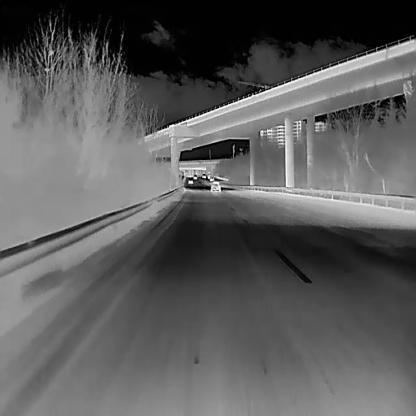car: (210, 180, 221, 192), (187, 177, 193, 183), (192, 174, 197, 179), (201, 173, 206, 178)
